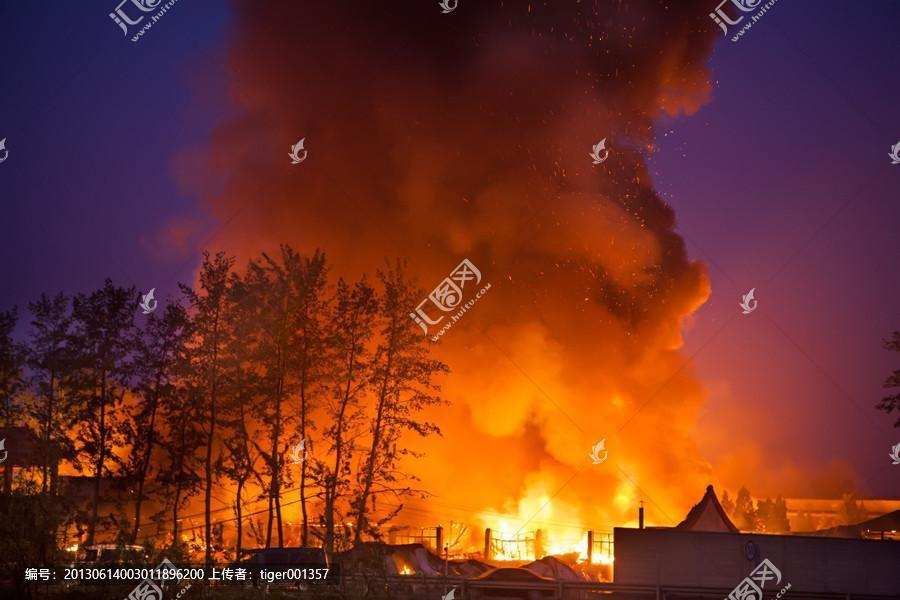fire: (415, 452, 642, 577)
